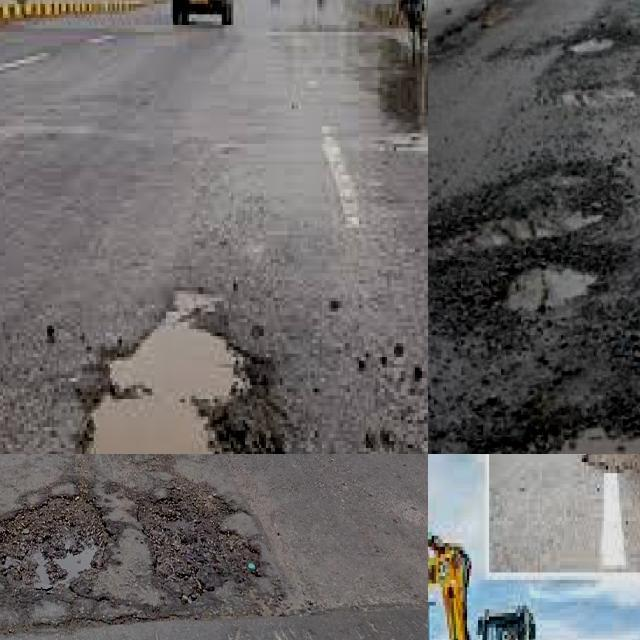Pothole: (93, 329, 229, 454), (138, 486, 254, 591), (0, 488, 106, 591), (432, 200, 605, 257), (502, 265, 598, 314), (595, 454, 640, 473)
